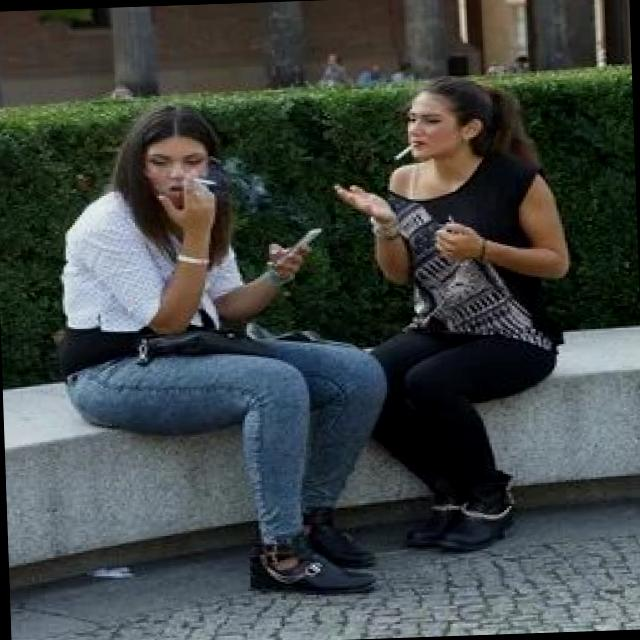cigarette: (385, 136, 416, 164), (186, 173, 222, 190)
